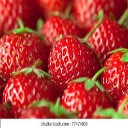strawberry: (47, 36, 103, 98), (3, 68, 60, 117)
